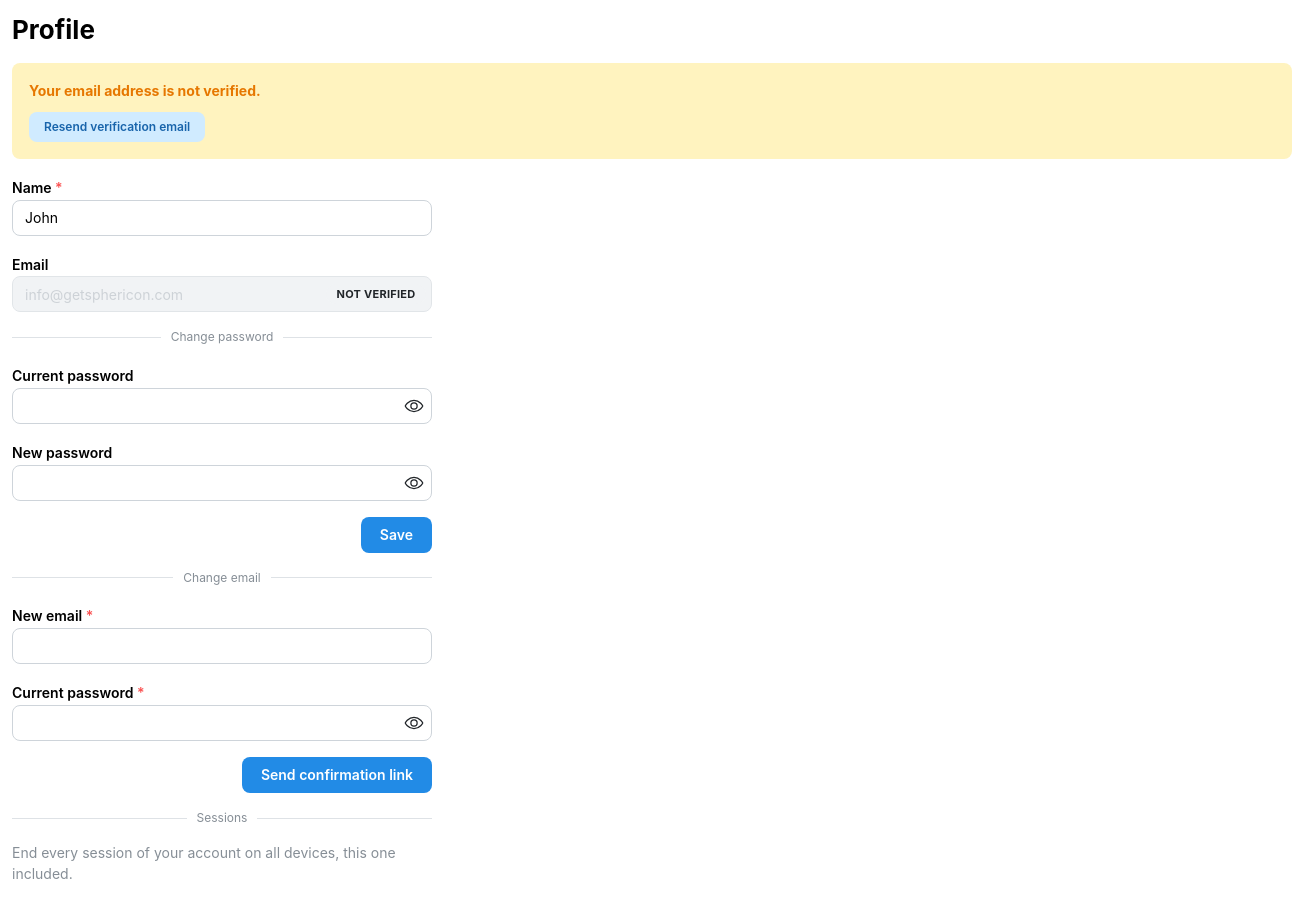
Test: an unverified user can ask for the verification email again
Check: the text "Your email address is not verified." is shown, box x1=29 y1=80 x2=261 y2=102
Click the button "Resend verification email" at (117, 127), box x1=29 y1=112 x2=205 y2=142
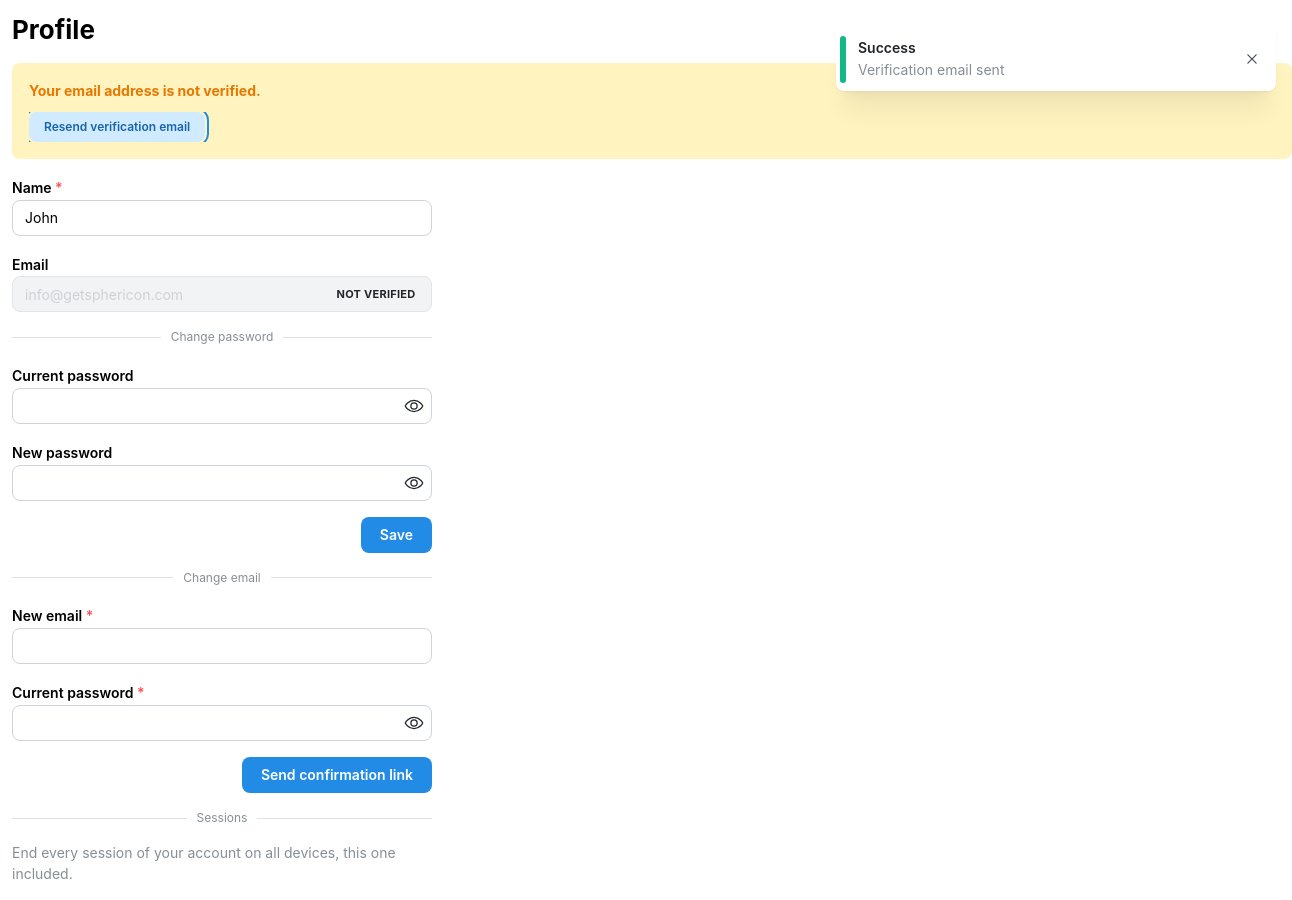
Check: the text "Verification email sent" is shown, box x1=858 y1=61 x2=1004 y2=78
